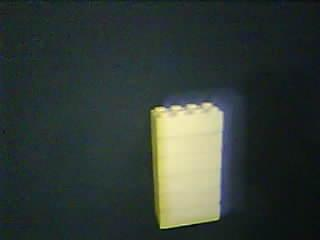lego: (149, 100, 224, 231)
